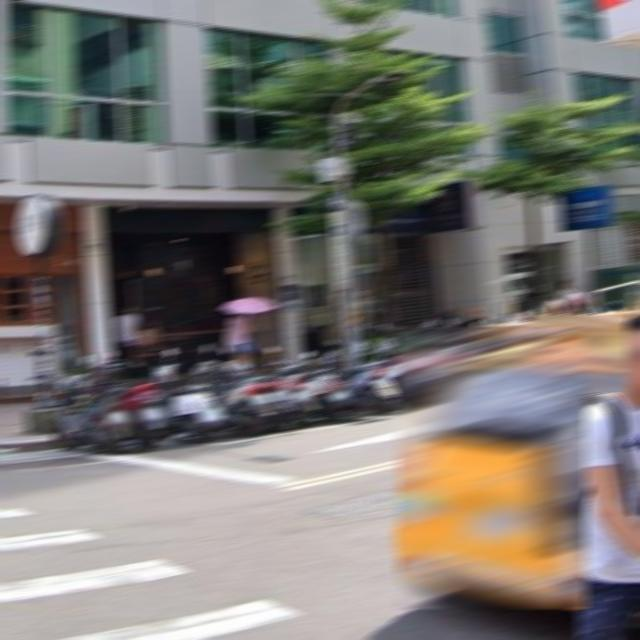Fire: (396, 328, 588, 607)
Taxi: (530, 314, 629, 393)
